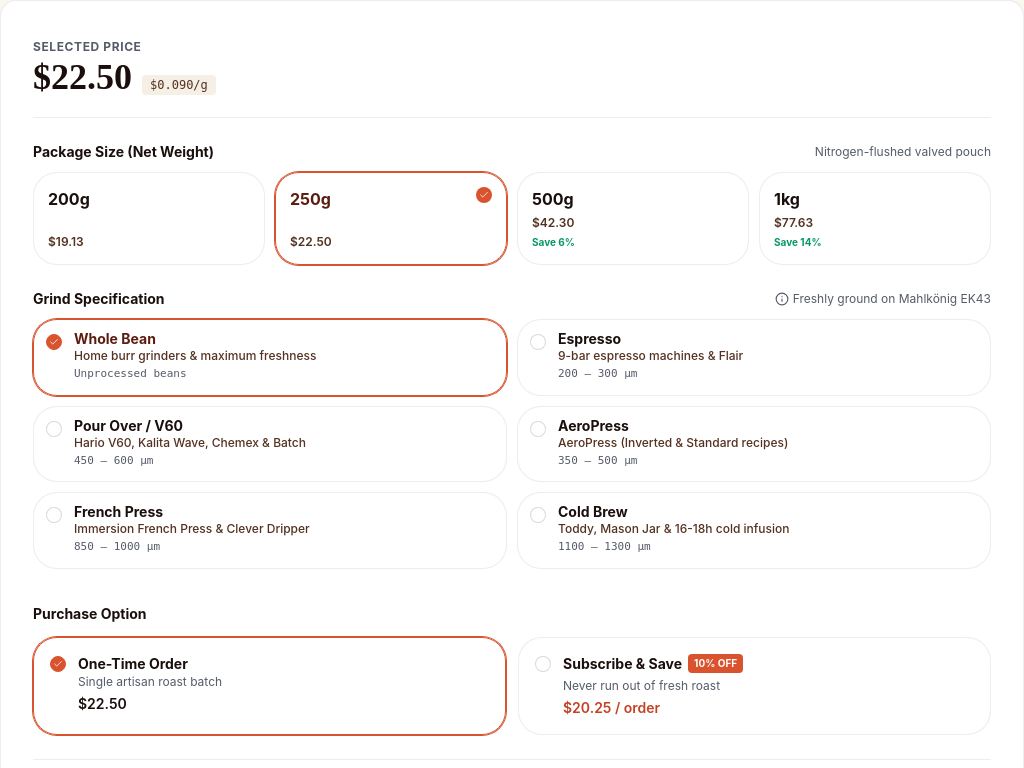
it: Milestone 3: Product Detail & Brew Guide Components Verification › VariantSelector Component › switches package weight and updates price per gram and selected total
The width and height of the screenshot is (1024, 768).
Click the radio button "500g" at (633, 218), box 517,172 -> 749,265
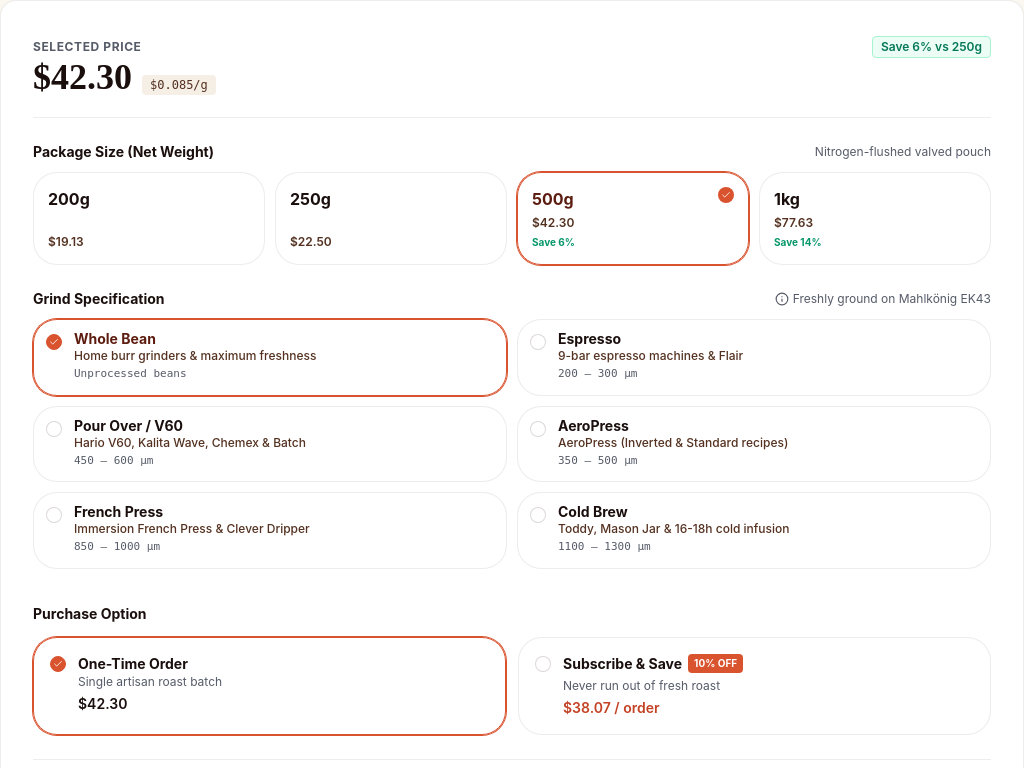
Expected: the text "$42.30" next to "0.085" is shown, 33,57 -> 132,97
